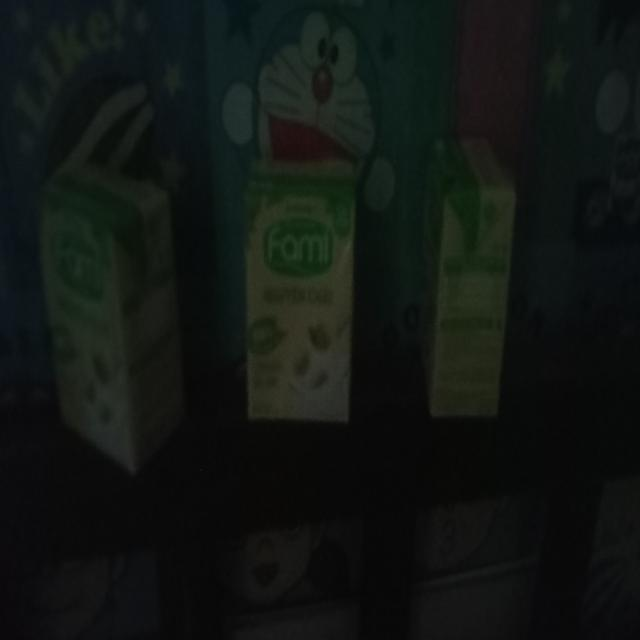Fami: (39, 157, 186, 476), (246, 151, 357, 427), (419, 123, 516, 415)
